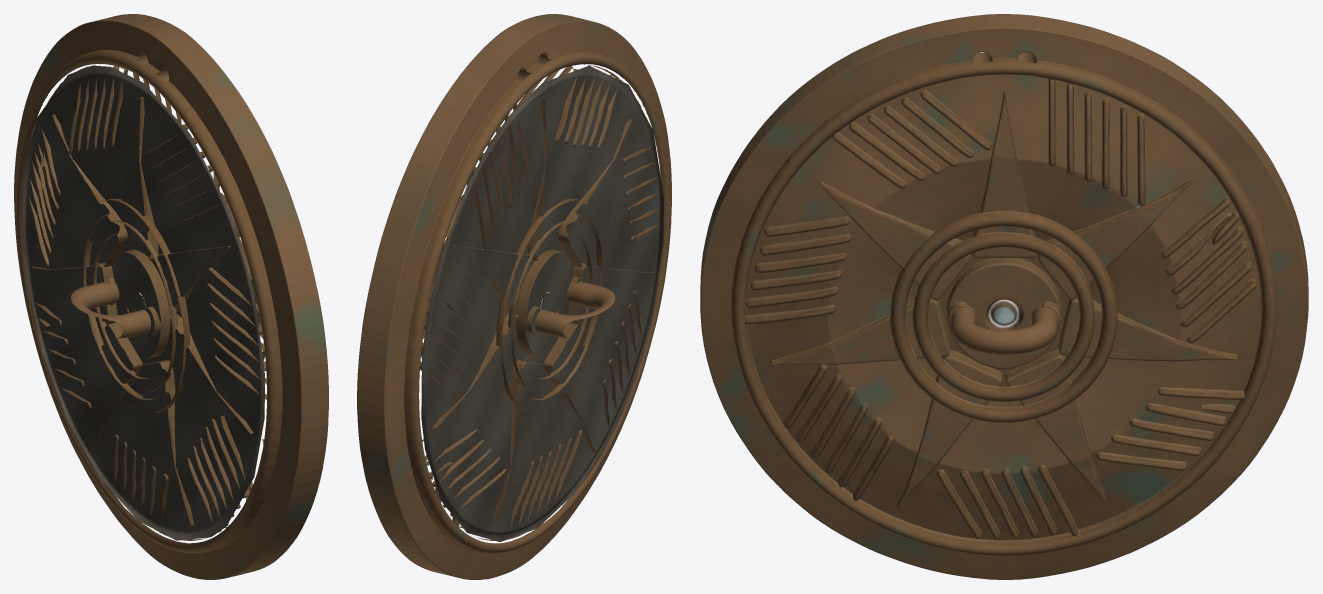
Rendered from qijia-seven-point-mirror.glb.
3 views of the same model, side by side, from view 1: azimuth 30°, elevation 25°; view 2: azimuth 150°, elevation 25°; view 3: azimuth 270°, elevation 25° (orthographic). The views are drawn at different scales.
Size of the model in its own units: 0.3882 by 1 by 0.9981.
2 materials, 2 textured.
